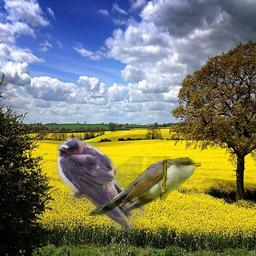Cuckoo: (86, 156, 201, 216)
Swallow: (55, 137, 145, 232)
